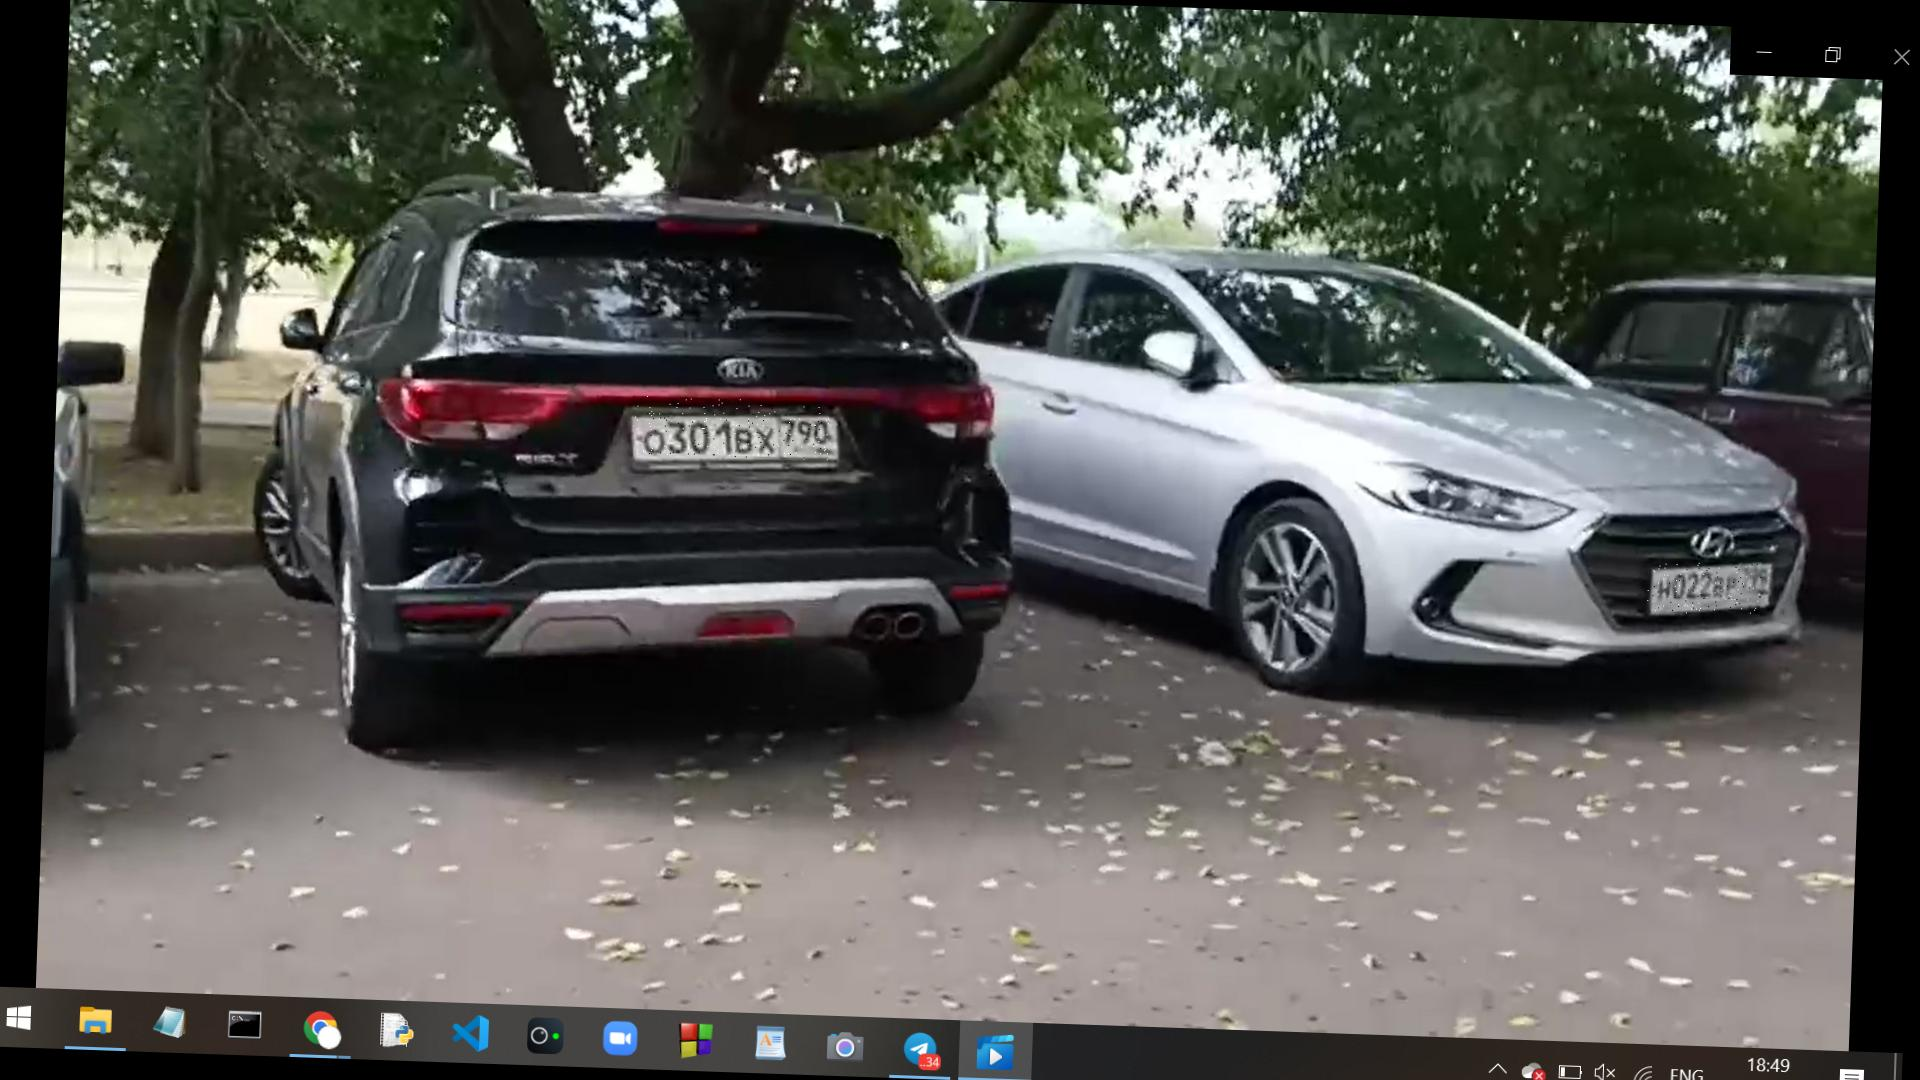plate: (632, 398, 831, 462), (1647, 560, 1763, 618)
